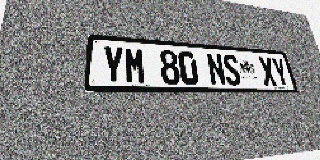0: (178, 51, 199, 85)
8: (159, 49, 181, 85)
M: (124, 47, 146, 84)
N: (206, 53, 227, 85)
S: (221, 54, 242, 85)
X: (257, 57, 278, 86)
Y: (102, 45, 124, 84), (270, 58, 290, 86)
